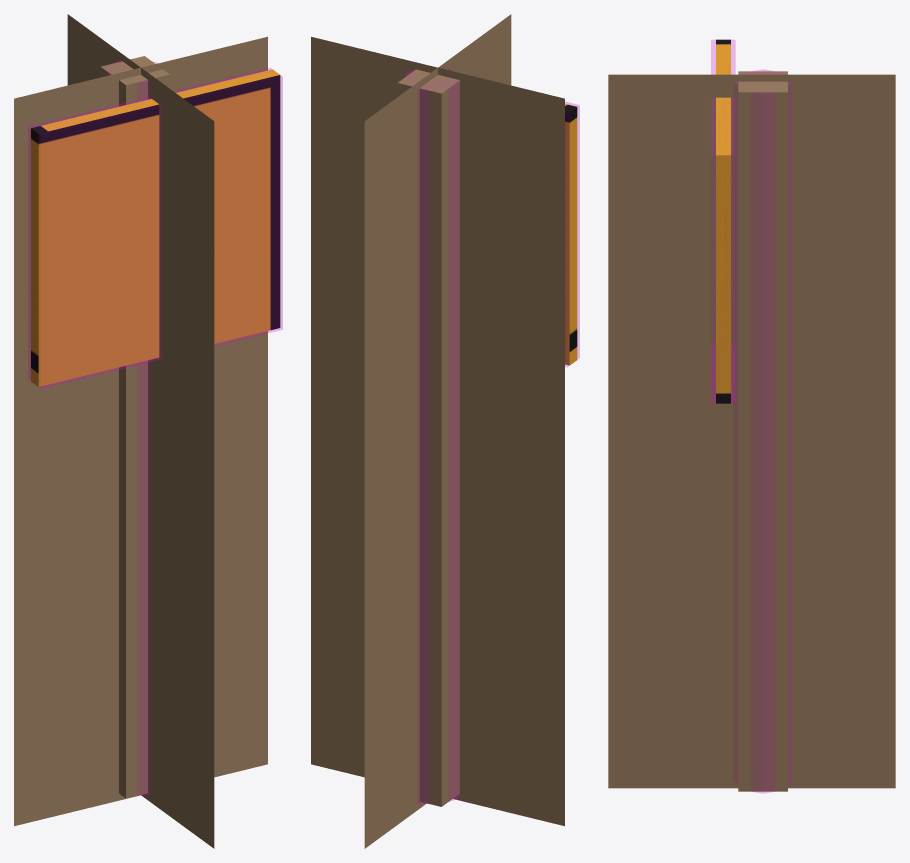
Rendered from arrow_turn_right.dae.
3 views of the same model, side by side, from view 1: azimuth 30°, elevation 25°; view 2: azimuth 150°, elevation 25°; view 3: azimuth 270°, elevation 25° (orthographic).
Parts seen in each view (by area): view 1: arrow_turn_right_a50, arrow_turn_right_a800, Colmesh_sign-1, Colmesh_post-1, arrow_turn_right_a200; view 2: arrow_turn_right_a50, arrow_turn_right_a800, Colmesh_post-1, arrow_turn_right_a200, Colmesh_sign-1; view 3: arrow_turn_right_a50, arrow_turn_right_a800, Colmesh_post-1, Colmesh_sign-1.
Part boxes in pixels (left/top/right/bottom): arrow_turn_right_a50: left=14, top=14, right=267, bottom=848; arrow_turn_right_a800: left=31, top=56, right=280, bottom=798; Colmesh_sign-1: left=28, top=68, right=282, bottom=388; Colmesh_post-1: left=108, top=60, right=157, bottom=795; arrow_turn_right_a200: left=119, top=61, right=169, bottom=796; arrow_turn_right_a50: left=311, top=14, right=564, bottom=848; arrow_turn_right_a800: left=397, top=69, right=577, bottom=806; Colmesh_post-1: left=405, top=68, right=459, bottom=803; arrow_turn_right_a200: left=413, top=71, right=459, bottom=805; Colmesh_sign-1: left=565, top=102, right=579, bottom=366; arrow_turn_right_a50: left=608, top=74, right=895, bottom=788; arrow_turn_right_a800: left=716, top=39, right=787, bottom=791; Colmesh_post-1: left=734, top=69, right=792, bottom=793; Colmesh_sign-1: left=711, top=40, right=735, bottom=403.
Size of the model in its own units: 0.5775 by 0.5775 by 1.58.
3 materials, 1 textured.
